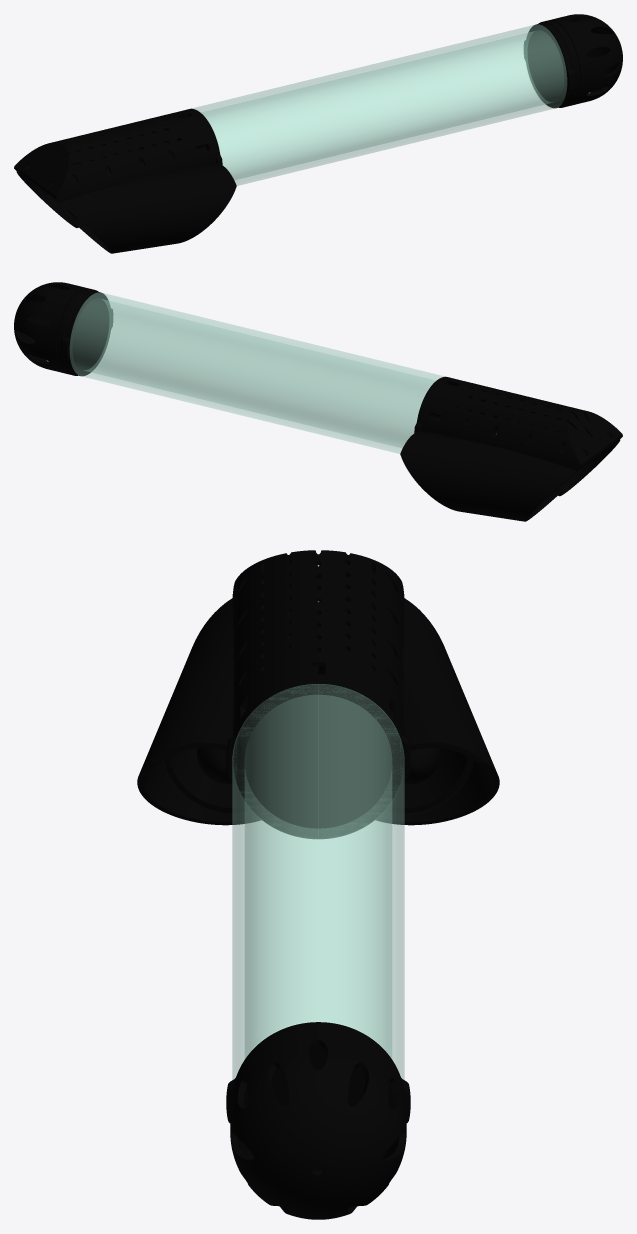
Rendered from puffin_hull.dae.
3 views of the same model, one above another, from view 1: azimuth 30°, elevation 25°; view 2: azimuth 150°, elevation 25°; view 3: azimuth 270°, elevation 25° (orthographic). The views are drawn at different scales.
Visible parts, largest first — view 1: Brep (×5), Chamfer1 (×2); view 2: Brep (×5), Chamfer1 (×2); view 3: Brep (×9), Chamfer1 (×2).
Part boxes in pixels (bbox=[...]): Brep (×5): bbox=[14, 14, 622, 253]; Chamfer1 (×2): bbox=[177, 23, 574, 164]; Brep (×5): bbox=[14, 282, 622, 521]; Chamfer1 (×2): bbox=[62, 291, 459, 432]; Brep (×9): bbox=[137, 550, 499, 1219]; Chamfer1 (×2): bbox=[226, 678, 410, 1170].
Size of the model in its own units: 692 by 187 by 114.
